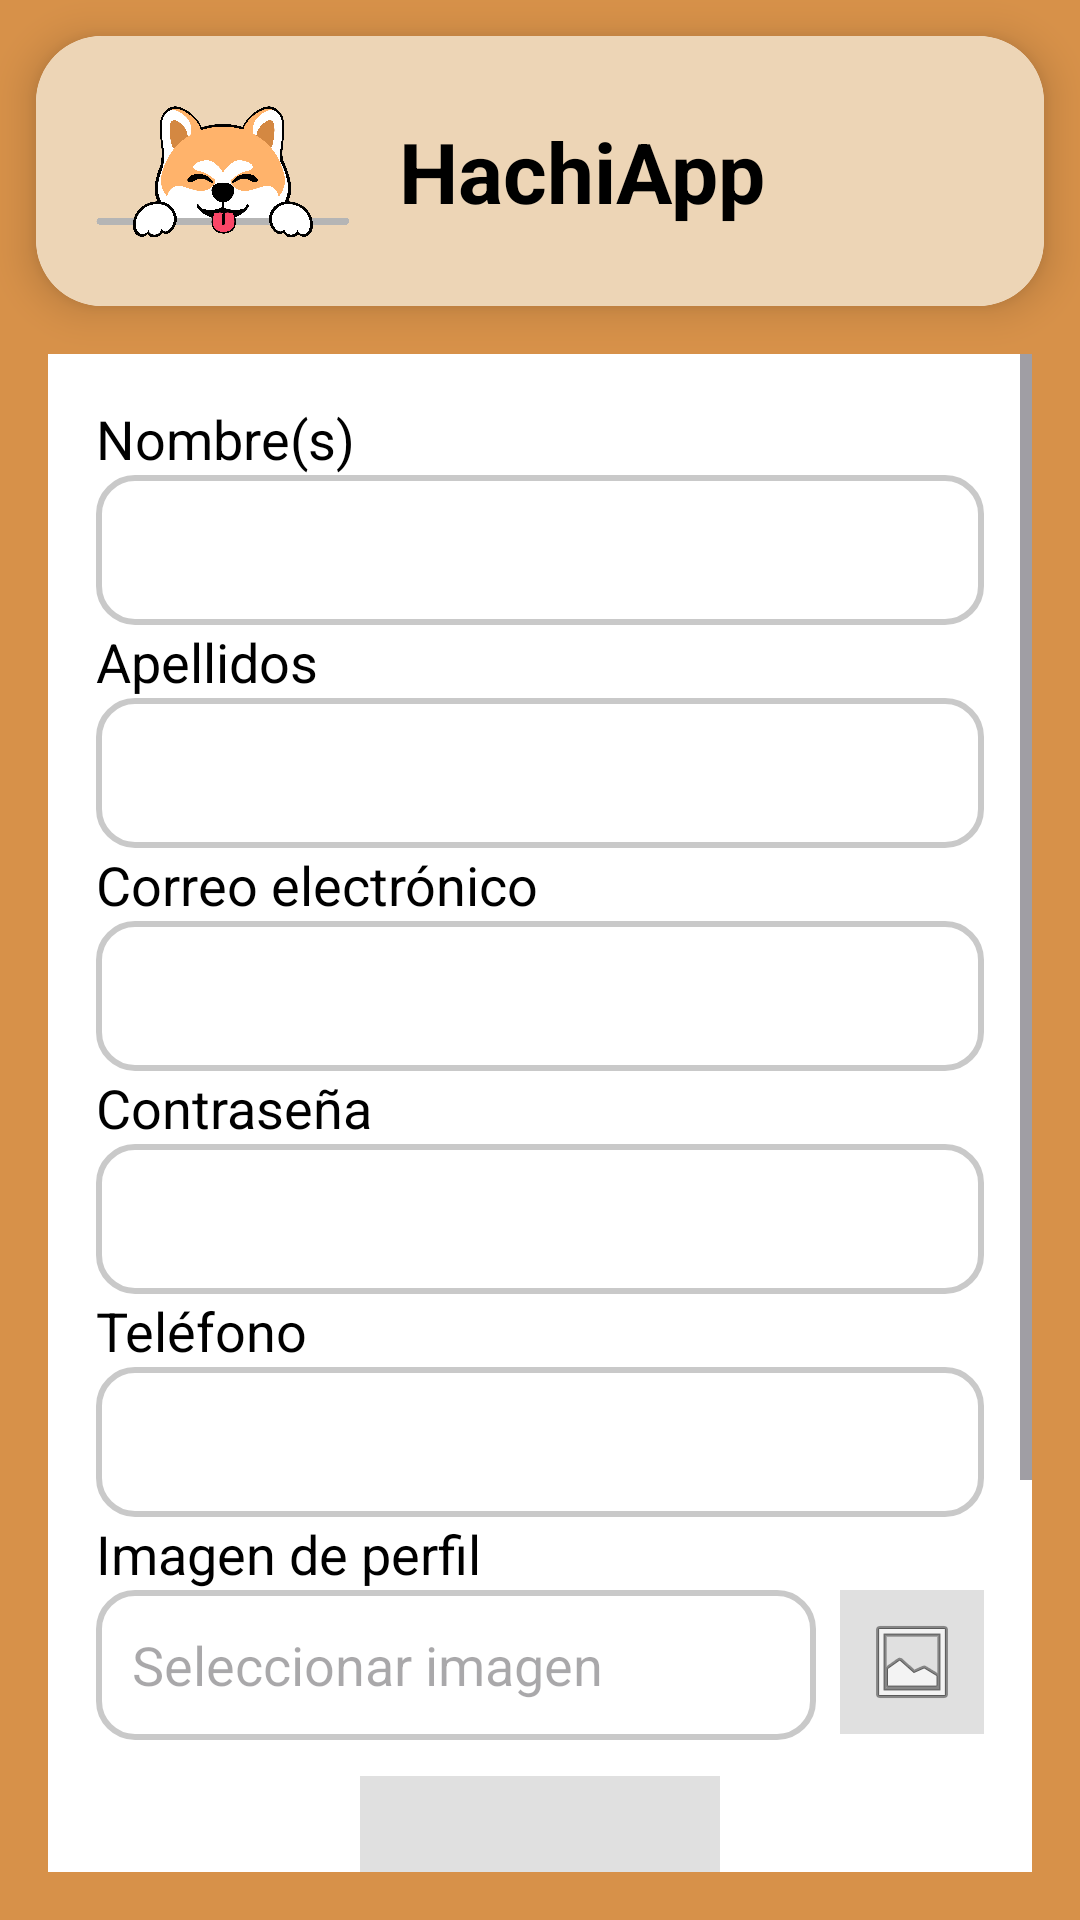

Locate icon controls on the screen. Image size 1080px×1920px, boxes as (x1, y1, x2, y2).
gallery: (840, 1590, 984, 1734)
iconoprincipal: (97, 106, 349, 237)
